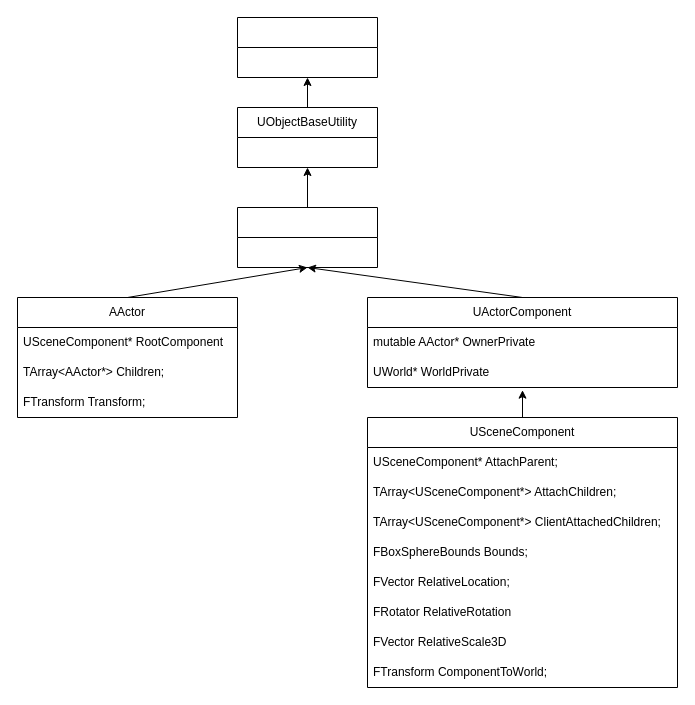
The diagram is 695 pixels wide and 705 high, and some of its shapes have lost their labels. Each missing label, with the centre of its shape:
"UObject" goes at point (307, 237).
"UObjectBase" goes at point (307, 47).
